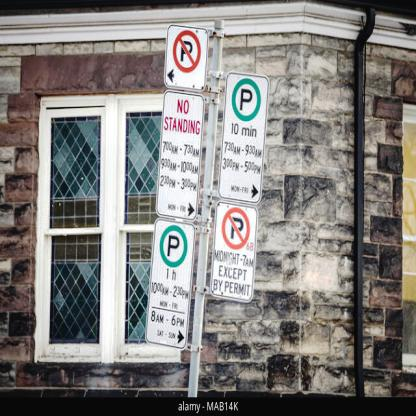Parking: (155, 216, 197, 266), (228, 75, 266, 127)
